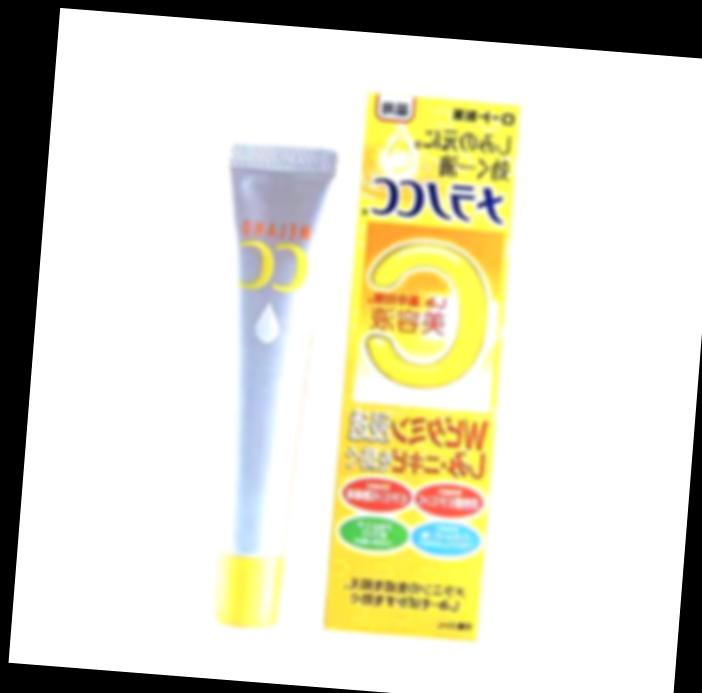cosmetic: (193, 141, 343, 632)
